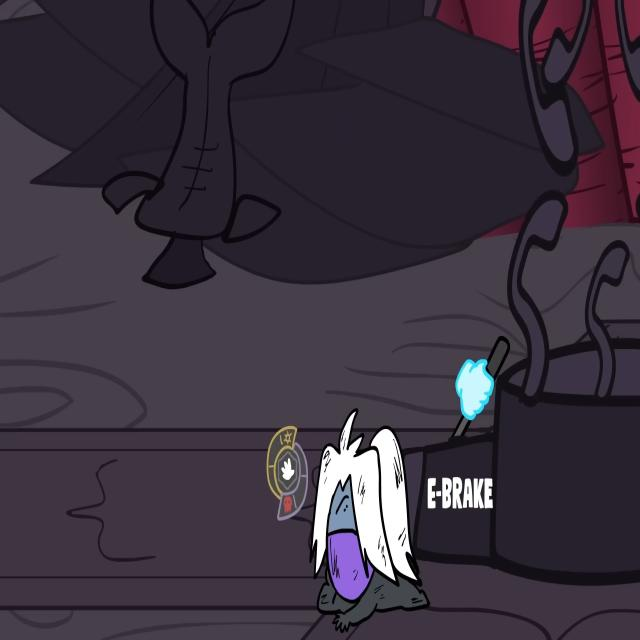miss Demeanor: (308, 407, 430, 635)
